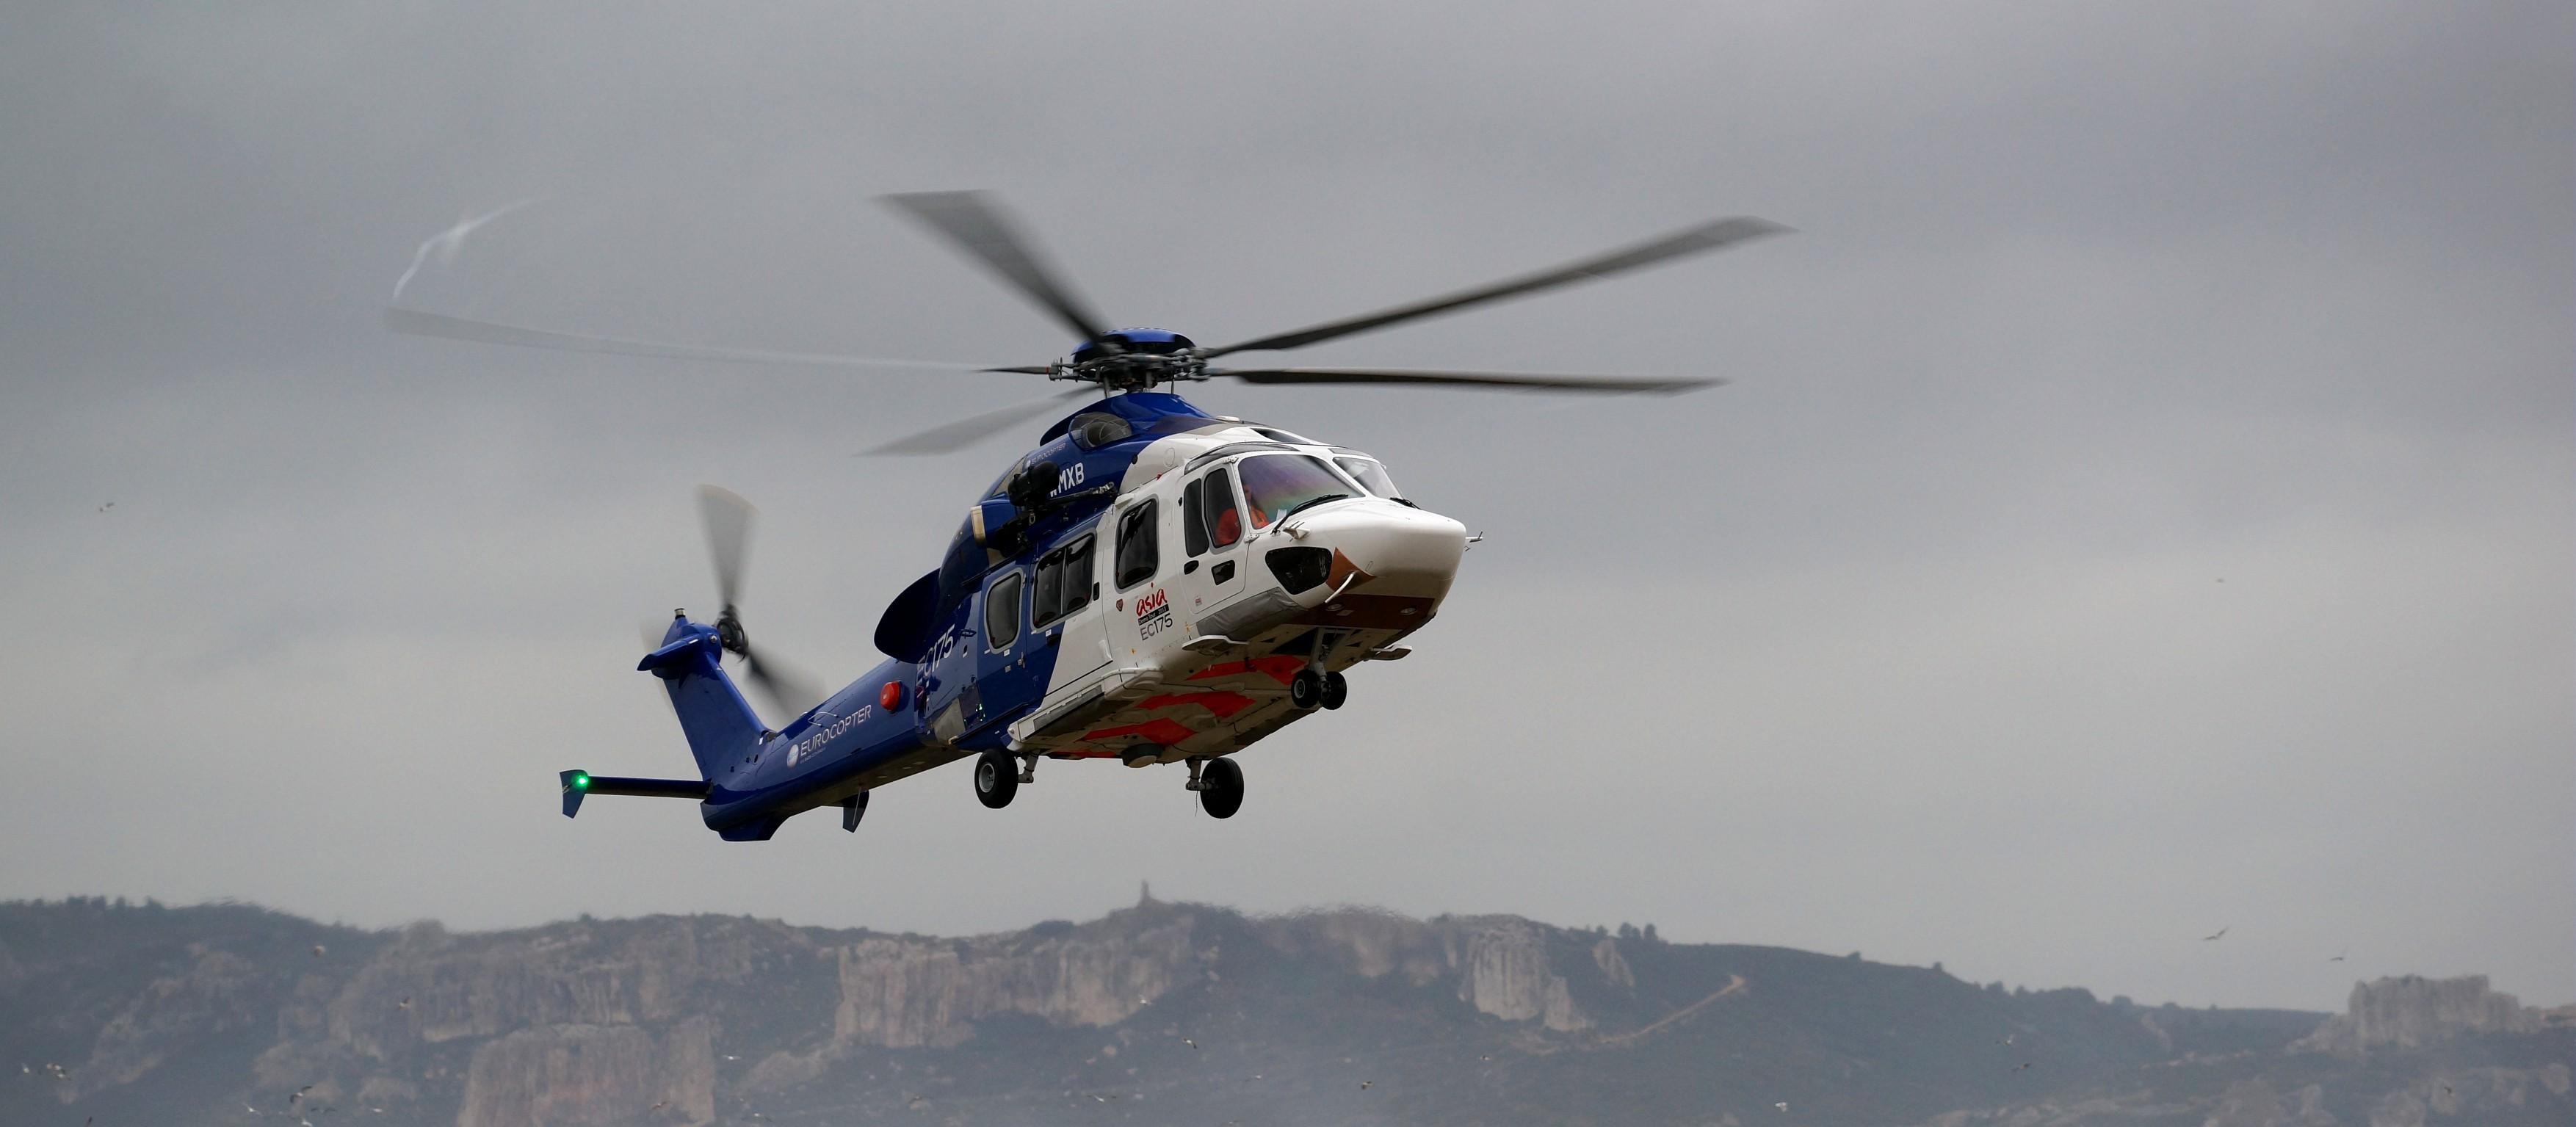airplane: (386, 164, 1801, 884)
